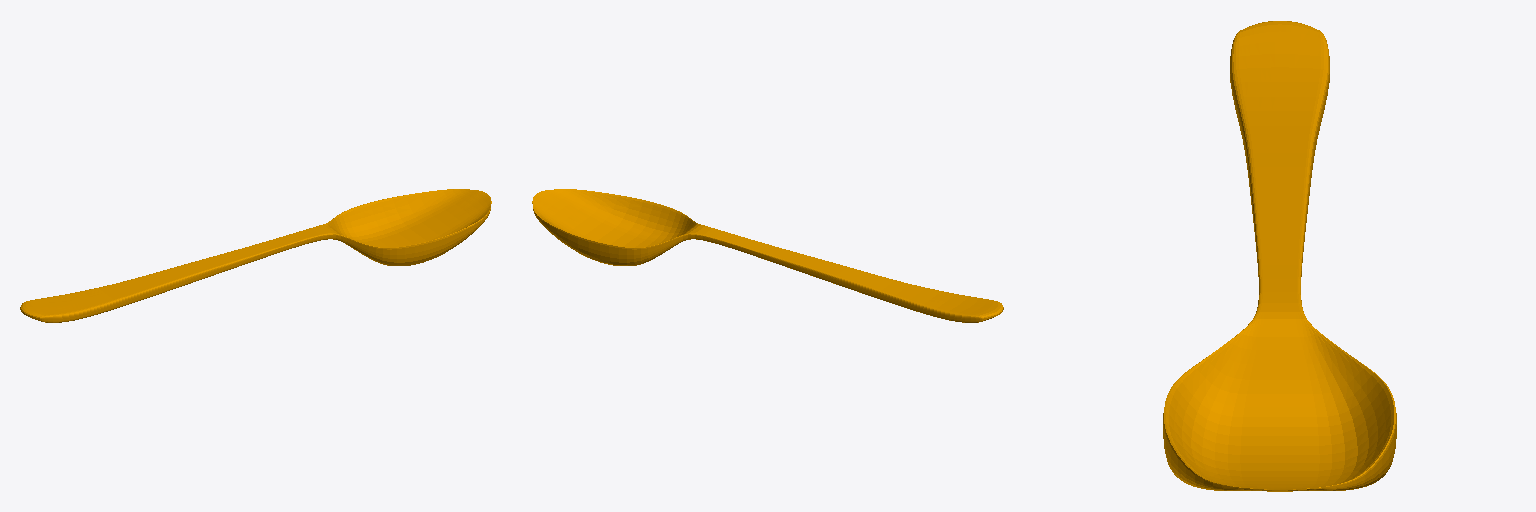
The robot description file, URDF, robot "spoon":
<?xml version="1.0" ?>
<robot name="spoon">
    <link name="spoon">
        <visual>
            <origin xyz="0 0 0" rpy="0 0 0"/>
            <geometry>
                <mesh filename="package://giskardpy_ros/test/spoon/meshes/obj/SM_Spoon.obj"/>
            </geometry>
        </visual>
        <collision>
            <origin xyz="0 0 0" rpy="0 0 0"/>
            <geometry>
                <mesh filename="package://giskardpy_ros/test/spoon/meshes/stl/SM_Spoon_1.stl"/>
            </geometry>
        </collision>
        <collision>
            <origin xyz="0 0 0" rpy="0 0 0"/>
            <geometry>
                <mesh filename="package://giskardpy_ros/test/spoon/meshes/stl/SM_Spoon_2.stl"/>
            </geometry>
        </collision>
        <collision>
            <origin xyz="0 0 0" rpy="0 0 0"/>
            <geometry>
                <mesh filename="package://giskardpy_ros/test/spoon/meshes/stl/SM_Spoon_3.stl"/>
            </geometry>
        </collision>
        <collision>
            <origin xyz="0 0 0" rpy="0 0 0"/>
            <geometry>
                <mesh filename="package://giskardpy_ros/test/spoon/meshes/stl/SM_Spoon_4.stl"/>
            </geometry>
        </collision>
        <collision>
            <origin xyz="0 0 0" rpy="0 0 0"/>
            <geometry>
                <mesh filename="package://giskardpy_ros/test/spoon/meshes/stl/SM_Spoon_5.stl"/>
            </geometry>
        </collision>
        <collision>
            <origin xyz="0 0 0" rpy="0 0 0"/>
            <geometry>
                <mesh filename="package://giskardpy_ros/test/spoon/meshes/stl/SM_Spoon_6.stl"/>
            </geometry>
        </collision>
        <collision>
            <origin xyz="0 0 0" rpy="0 0 0"/>
            <geometry>
                <mesh filename="package://giskardpy_ros/test/spoon/meshes/stl/SM_Spoon_7.stl"/>
            </geometry>
        </collision>
        <collision>
            <origin xyz="0 0 0" rpy="0 0 0"/>
            <geometry>
                <mesh filename="package://giskardpy_ros/test/spoon/meshes/stl/SM_Spoon_8.stl"/>
            </geometry>
        </collision>
        <collision>
            <origin xyz="0 0 0" rpy="0 0 0"/>
            <geometry>
                <mesh filename="package://giskardpy_ros/test/spoon/meshes/stl/SM_Spoon_9.stl"/>
            </geometry>
        </collision>
        <collision>
            <origin xyz="0 0 0" rpy="0 0 0"/>
            <geometry>
                <mesh filename="package://giskardpy_ros/test/spoon/meshes/stl/SM_Spoon_10.stl"/>
            </geometry>
        </collision>
        <collision>
            <origin xyz="0 0 0" rpy="0 0 0"/>
            <geometry>
                <mesh filename="package://giskardpy_ros/test/spoon/meshes/stl/SM_Spoon_11.stl"/>
            </geometry>
        </collision>
        <collision>
            <origin xyz="0 0 0" rpy="0 0 0"/>
            <geometry>
                <mesh filename="package://giskardpy_ros/test/spoon/meshes/stl/SM_Spoon_12.stl"/>
            </geometry>
        </collision>
        <collision>
            <origin xyz="0 0 0" rpy="0 0 0"/>
            <geometry>
                <mesh filename="package://giskardpy_ros/test/spoon/meshes/stl/SM_Spoon_13.stl"/>
            </geometry>
        </collision>
        <collision>
            <origin xyz="0 0 0" rpy="0 0 0"/>
            <geometry>
                <mesh filename="package://giskardpy_ros/test/spoon/meshes/stl/SM_Spoon_14.stl"/>
            </geometry>
        </collision>
        <collision>
            <origin xyz="0 0 0" rpy="0 0 0"/>
            <geometry>
                <mesh filename="package://giskardpy_ros/test/spoon/meshes/stl/SM_Spoon_15.stl"/>
            </geometry>
        </collision>
        <collision>
            <origin xyz="0 0 0" rpy="0 0 0"/>
            <geometry>
                <mesh filename="package://giskardpy_ros/test/spoon/meshes/stl/SM_Spoon_16.stl"/>
            </geometry>
        </collision>
        <collision>
            <origin xyz="0 0 0" rpy="0 0 0"/>
            <geometry>
                <mesh filename="package://giskardpy_ros/test/spoon/meshes/stl/SM_Spoon_17.stl"/>
            </geometry>
        </collision>
    </link>
</robot>

--- What the picture shows (computed from the rendered views, not written in the file) ---
Views: 3 orthographic renders of the robot side by side, from view 1: azimuth 30°, elevation 25°; view 2: azimuth 150°, elevation 25°; view 3: azimuth 270°, elevation 25°.
Robot: spoon — 1 links, 0 joints (none); root link spoon; default pose: all joints at 0.
Links seen in each view (by area): view 1: spoon; view 2: spoon; view 3: spoon.
Boxes of the visible links, left/top/right/bottom form: spoon: left=20, top=189, right=491, bottom=322; spoon: left=532, top=189, right=1003, bottom=322; spoon: left=1163, top=21, right=1396, bottom=491.
Bounding box of the posed robot: 0.0849 × 0.0175 × 0.0061 m (x, y, z).
1 mesh visuals loaded from 1 distinct referenced files (1 OBJ).
